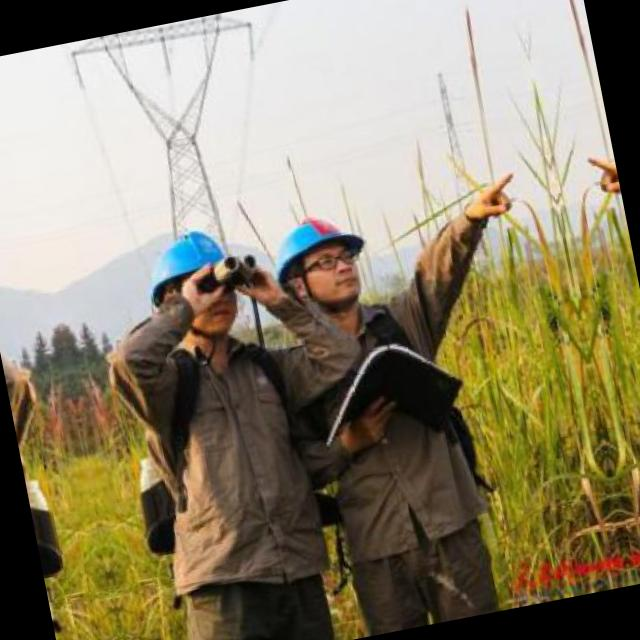helmet: (258, 192, 384, 328), (132, 224, 244, 330)
